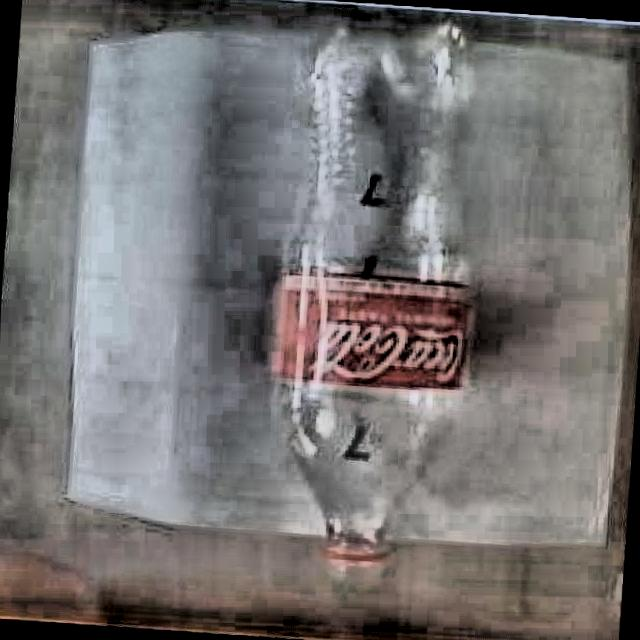plastic bottle: (272, 4, 470, 582)
